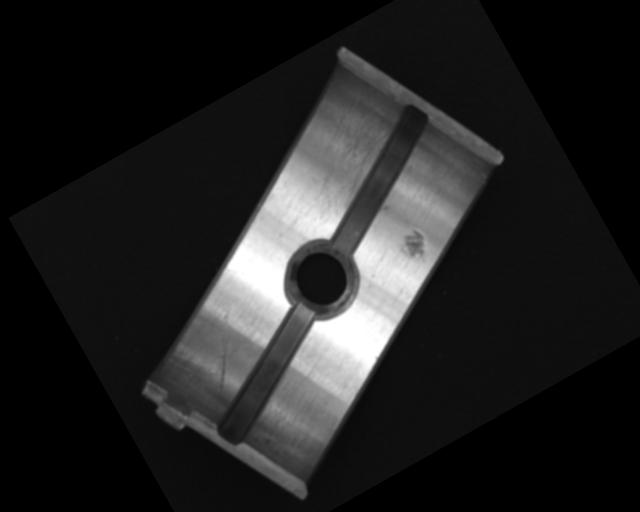bruise: (397, 226, 435, 269)
gap: (290, 99, 468, 261), (184, 299, 351, 449)
hole: (275, 230, 370, 329)
nick: (185, 308, 262, 393)
scratch: (276, 88, 419, 228)
